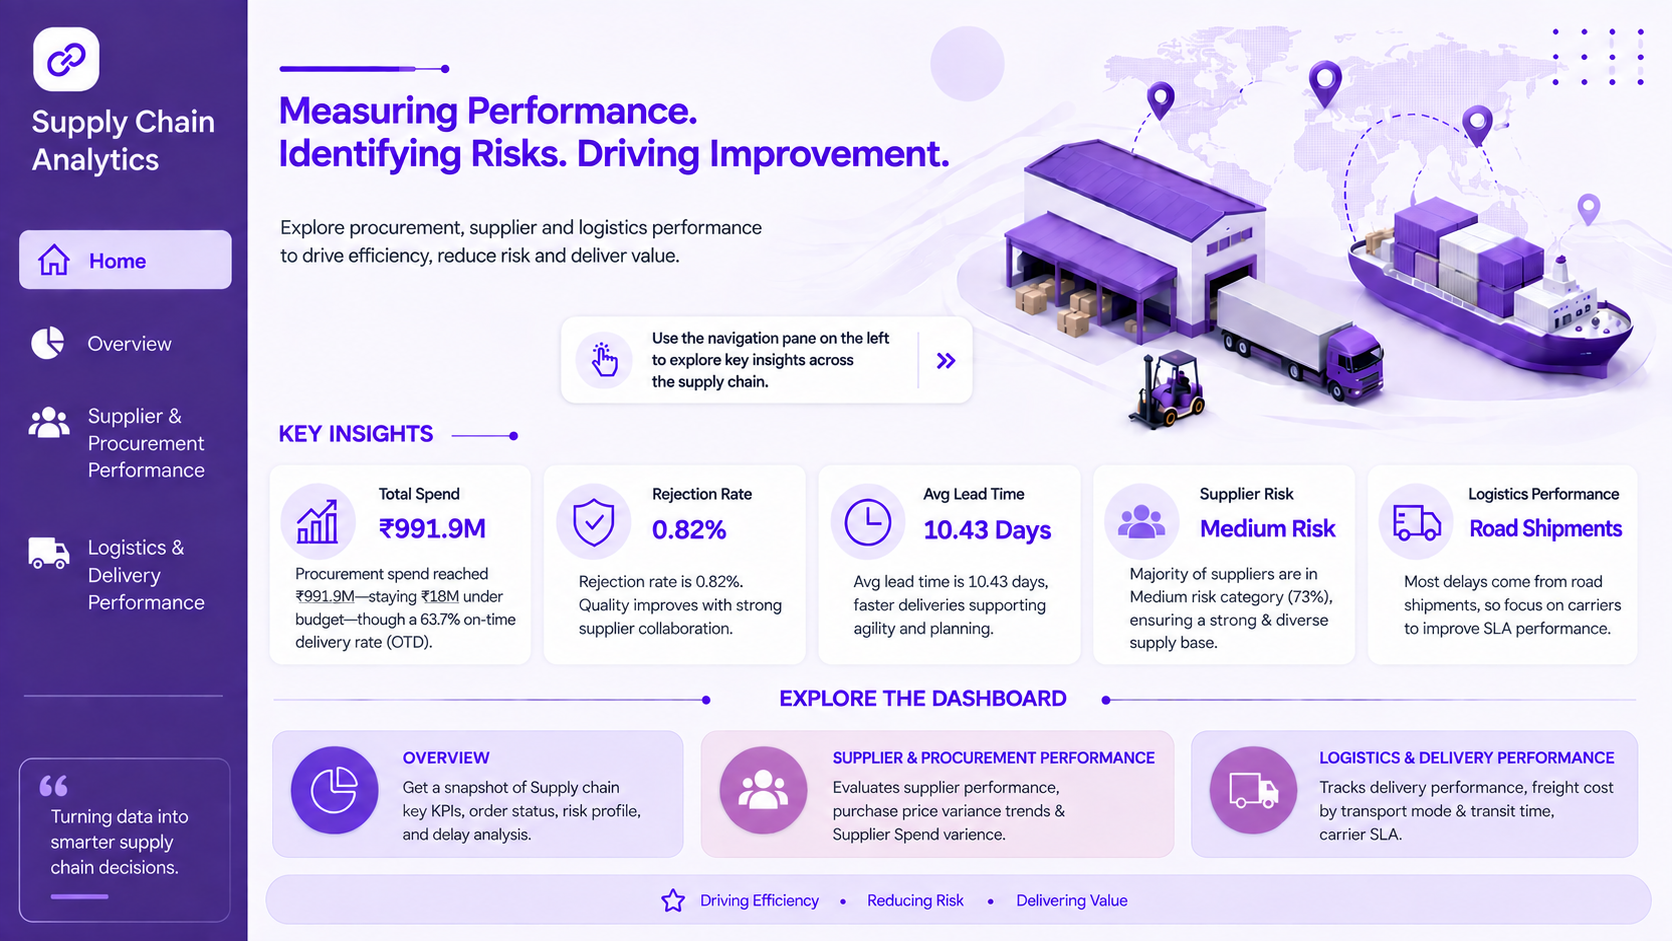

This screenshot's page, from the dashboard's own definition file:
{"tool":"powerbi","page":{"name":"Home","canvas":[1920,1080],"ordinal":0},"visuals":[{"type":"actionButton","box":[16,256,256,80],"z":0},{"type":"actionButton","box":[16,352,256,80],"z":1000},{"type":"actionButton","box":[16,448,256,112],"z":2000},{"type":"actionButton","box":[16,608,256,112],"z":3000}]}

Visuals, with their boxes in screenshot pixels (x1, y1, x2, y2), scaled from the page's 1920x1080 canvas onto the 1672x941 screenshot:
actionButton: left=14, top=223, right=237, bottom=293
actionButton: left=14, top=307, right=237, bottom=376
actionButton: left=14, top=390, right=237, bottom=488
actionButton: left=14, top=530, right=237, bottom=627
